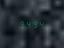four: (24, 19, 29, 27), (36, 20, 41, 28)
nine: (30, 19, 35, 28), (18, 19, 23, 27)
